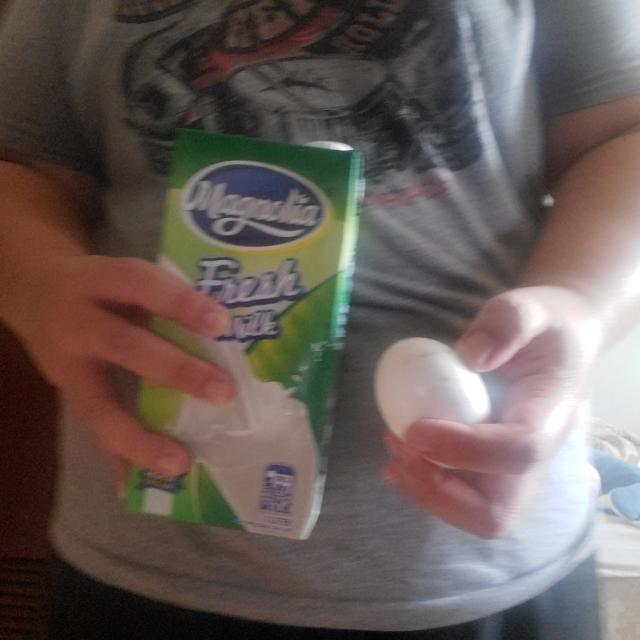egg: (377, 338, 493, 447)
milk: (115, 140, 374, 539)
